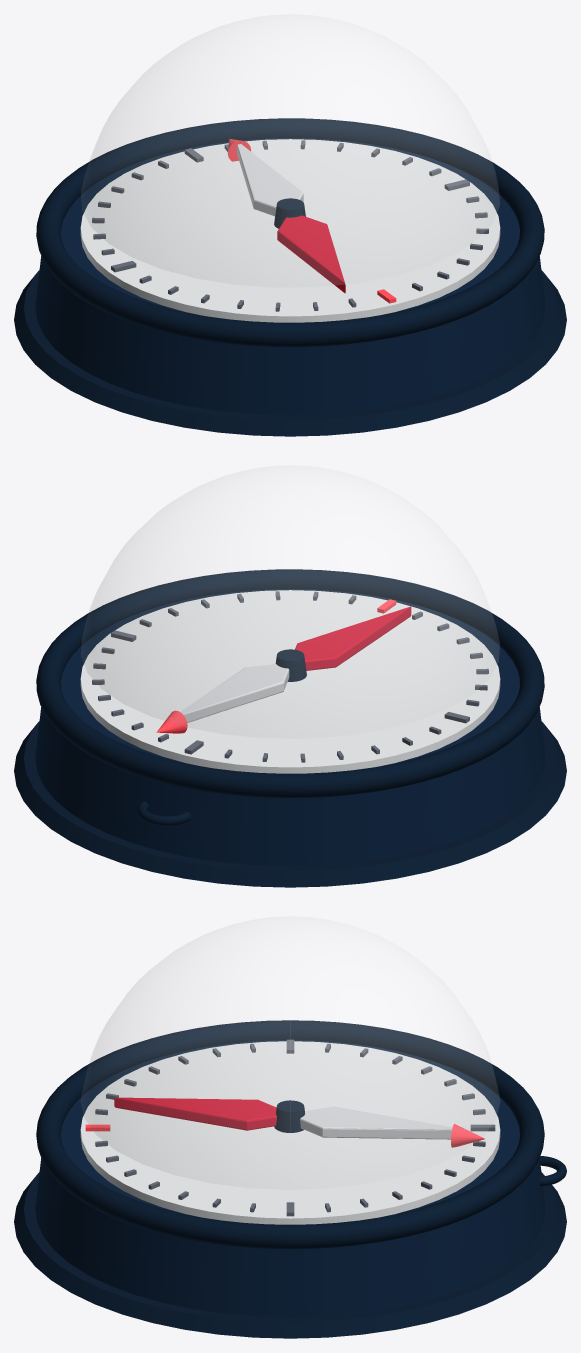
The model's file is compass.glb.
3 renders of one model, top to bottom at view 1: azimuth 30°, elevation 25°; view 2: azimuth 150°, elevation 25°; view 3: azimuth 270°, elevation 25°, orthographic.
Visible parts, largest first — view 1: glass_dome, dial_face, housing, bezel_ring, base_foot, needle_north, needle_south, pivot_pin; view 2: glass_dome, dial_face, housing, bezel_ring, base_foot, needle_south, needle_north, pivot_pin, hanging_bail; view 3: glass_dome, dial_face, housing, bezel_ring, base_foot, needle_north, needle_south, pivot_pin, hanging_bail.
Part boxes in pixels (bbox=[...]): glass_dome: bbox=[81, 15, 499, 286]; dial_face: bbox=[80, 139, 500, 322]; housing: bbox=[35, 138, 545, 415]; bezel_ring: bbox=[36, 118, 544, 346]; base_foot: bbox=[14, 270, 566, 436]; needle_north: bbox=[277, 215, 345, 293]; needle_south: bbox=[237, 144, 303, 216]; pivot_pin: bbox=[274, 198, 305, 228]; glass_dome: bbox=[81, 466, 499, 737]; dial_face: bbox=[80, 590, 500, 773]; housing: bbox=[35, 589, 545, 866]; bezel_ring: bbox=[36, 569, 544, 797]; base_foot: bbox=[14, 721, 566, 887]; needle_south: bbox=[170, 664, 289, 722]; needle_north: bbox=[295, 606, 411, 670]; pivot_pin: bbox=[275, 649, 306, 681]; hanging_bail: bbox=[137, 801, 191, 825]; glass_dome: bbox=[81, 916, 499, 1189]; dial_face: bbox=[80, 1041, 500, 1224]; housing: bbox=[35, 1040, 545, 1317]; bezel_ring: bbox=[36, 1020, 544, 1249]; base_foot: bbox=[14, 1172, 566, 1338]; needle_north: bbox=[114, 1097, 276, 1130]; needle_south: bbox=[300, 1106, 465, 1139]; pivot_pin: bbox=[274, 1100, 304, 1132]; hanging_bail: bbox=[539, 1156, 566, 1186].
Bounding box in the file's own units: 2.02 × 1.15 × 2.02.
